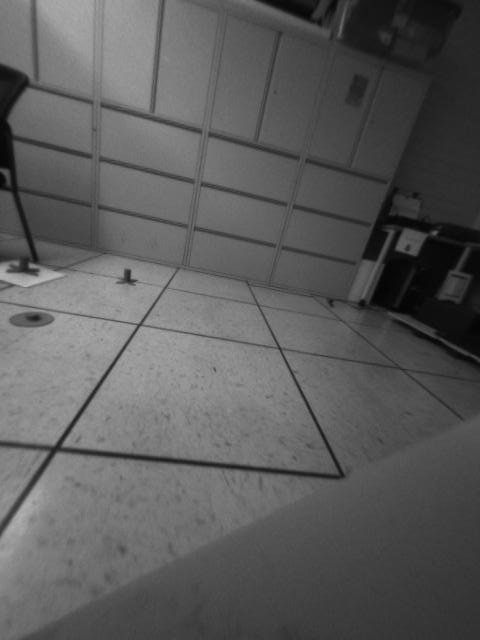X: (5, 255, 43, 278), (114, 267, 137, 287)
